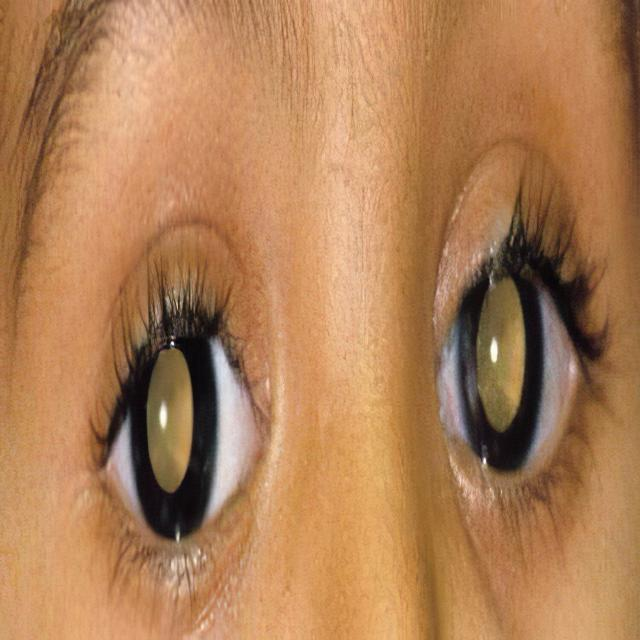reflexo-alterado: (427, 199, 602, 534), (93, 295, 256, 561)
